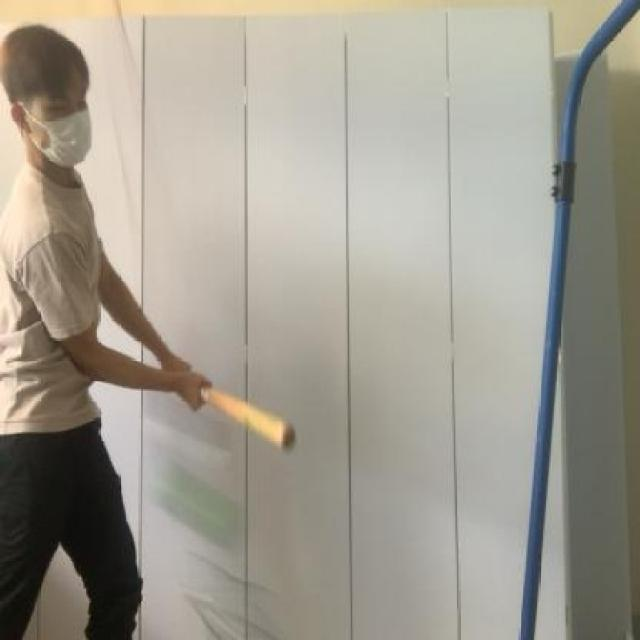baseball: (133, 444, 250, 547)
